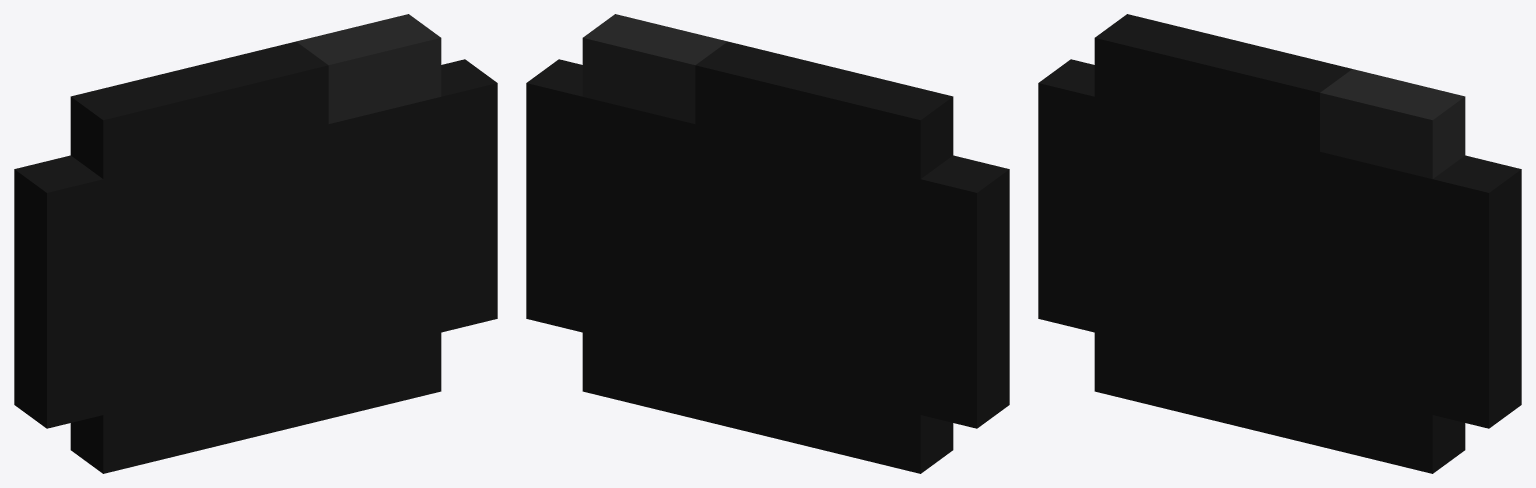
Rendered from talaspa9.obj.
3 renders of one model, left to right at view 1: azimuth 30°, elevation 25°; view 2: azimuth 150°, elevation 25°; view 3: azimuth 330°, elevation 25°, orthographic.
Parts seen in each view (by area): view 1: taladro9.006; view 2: taladro9.006; view 3: taladro9.006.
Boxes of the visible parts, bbox=[...] form: taladro9.006: bbox=[14, 14, 497, 473]; taladro9.006: bbox=[526, 14, 1009, 473]; taladro9.006: bbox=[1038, 14, 1521, 473].
Bounding box in the file's own units: 0.8 × 0.6 × 0.1.
